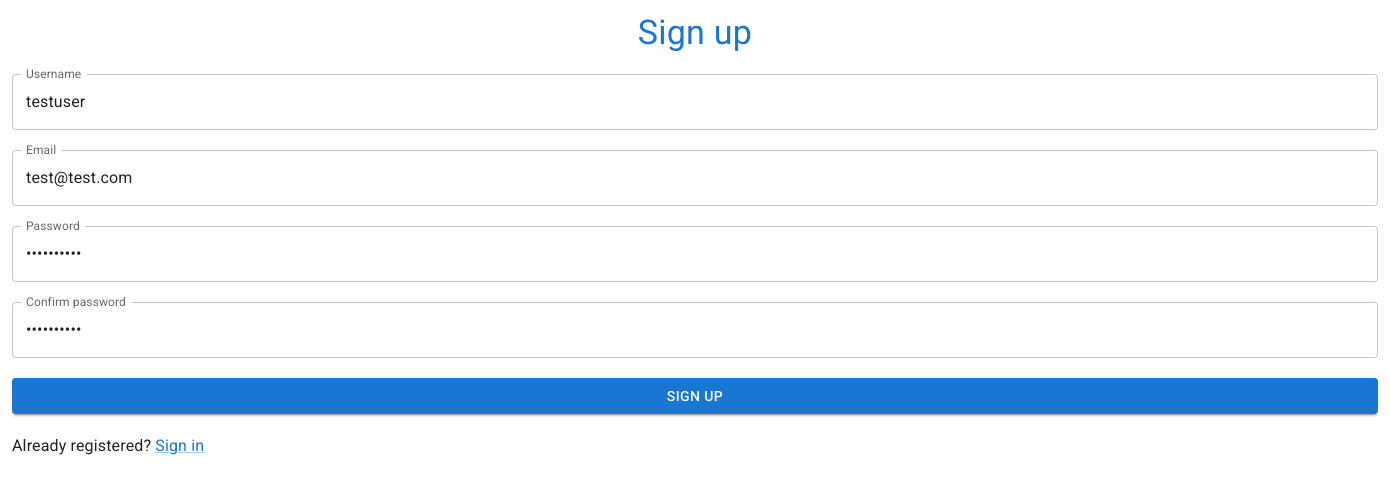
Test case: register form › should display error message when request fails
Expected: the text "sign up error" is not shown
// Submit form
Click the button "Sign up" at (695, 396), box [12,378,1378,414]
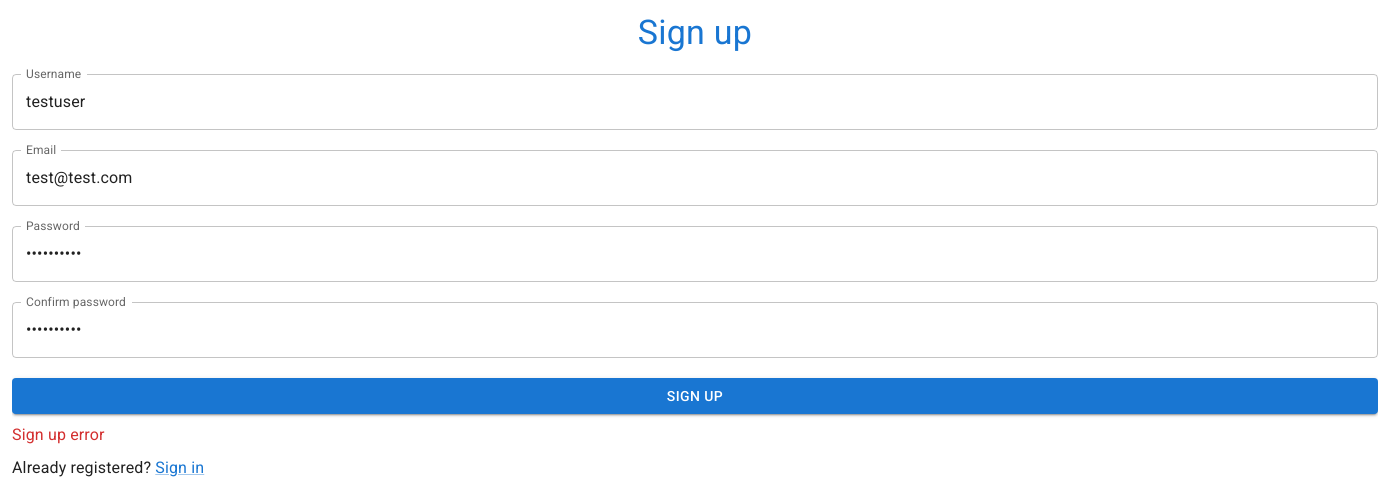
Now the text "Sign up error" is shown, box [12,426,105,444]
